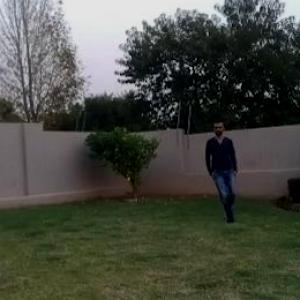follow: (206, 116, 241, 228)
